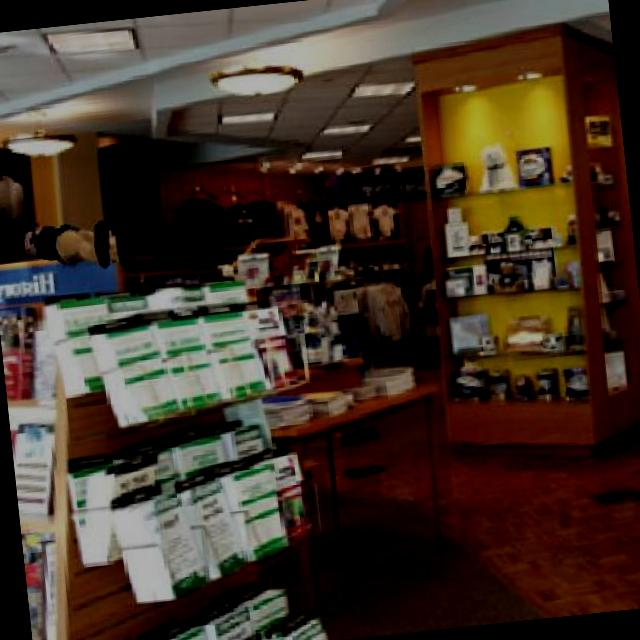Person: (19, 206, 136, 278)
